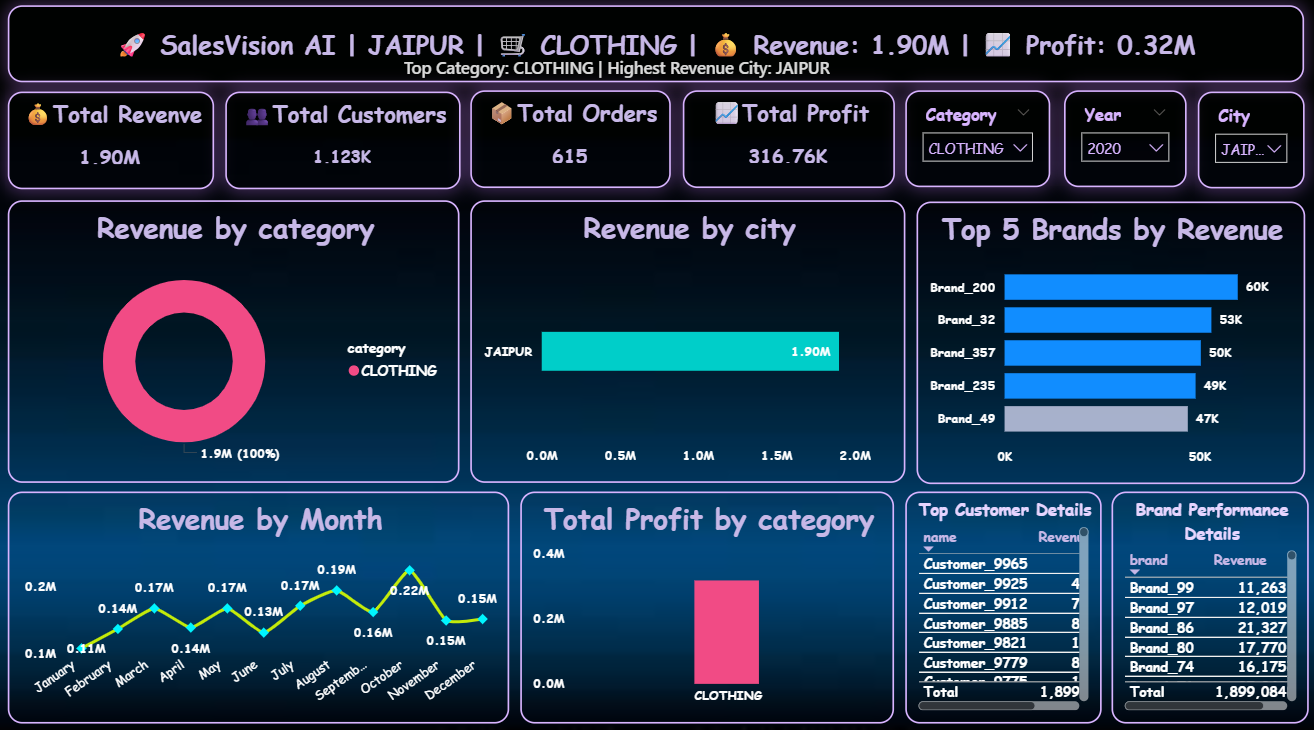

What the dashboard file says about the page in this screenshot:
{"tool":"powerbi","page":{"name":"Dashboard","canvas":[1280,720],"ordinal":0},"visuals":[{"type":"cardVisual","title":"💰Total Revenve","fields":{"Data":["orders_clean_final.Revenue"]},"box":[13.7,94.7,199,94.7],"z":0},{"type":"cardVisual","title":"📈Total Profit","fields":{"Data":["orders_clean_final.Total_Profit"]},"box":[664.2,93.3,204.5,94.7],"z":1000},{"type":"cardVisual","title":"📦Total Orders","fields":{"Data":["CountNonNull(orders_clean_final.order_id)"]},"box":[459.7,93.3,193.5,94.7],"z":2000},{"type":"cardVisual","title":"👥Total Customers","fields":{"Data":["CountNonNull(customers_clean.customer_id)"]},"box":[223.2,94.1,226.8,94.1],"z":3000},{"type":"donutChart","title":"Revenue by category ","fields":{"Category":["products_clean_final.category"],"Y":["orders_clean_final.Revenue"]},"box":[13.7,199,436.4,273.1],"z":4000},{"type":"clusteredBarChart","fields":{"Category":["customers_clean.city"],"Y":["orders_clean_final.Revenue"]},"box":[459.7,199,419.9,273.1],"z":5000},{"type":"lineChart","fields":{"Category":["orders_clean_final.order_date.Variation.Date Hierarchy.Month"],"Y":["orders_clean_final.Revenue"]},"box":[13.7,480.3,484.4,223.7],"z":6000},{"type":"tableEx","title":"Top Customer Details","fields":{"Values":["customers_clean.name","orders_clean_final.Revenue"]},"box":[879.6,480.3,189.4,223.7],"z":7000},{"type":"tableEx","title":"Brand Performance Details","fields":{"Values":["products_clean_final.brand","orders_clean_final.Revenue"]},"box":[1078.6,480.3,190.7,223.7],"z":8000},{"type":"slicer","fields":{"Values":["customers_clean.city"]},"box":[1162.3,94.7,102.9,93.3],"z":9000},{"type":"slicer","fields":{"Values":["orders_clean_final.year"]},"box":[1033.3,93.3,118,93.3],"z":10000},{"type":"slicer","fields":{"Values":["products_clean_final.category"]},"box":[879.6,93.3,140,93.3],"z":11000},{"type":"columnChart","title":"Total Profit by category","fields":{"Category":["products_clean_final.category"],"Y":["orders_clean_final.Total_Profit"]},"box":[507.7,480.3,360.9,223.7],"z":12000},{"type":"cardVisual","fields":{"Data":["orders_clean_final.Dynamic_Title"]},"box":[13.7,11,1251.5,74.1],"z":13000},{"type":"clusteredBarChart","title":"Top 5 Brands by Revenue","fields":{"Category":["products_clean_final.brand"],"Y":["orders_clean_final.Revenue"]},"box":[890.4,200.3,375.2,272.7],"z":14000},{"type":"cardVisual","fields":{"Data":["orders_clean_final.Dynamic_Insight"]},"box":[366.4,31.6,808.2,76.8],"z":15000}]}

Visuals, with their boxes in screenshot pixels (x1, y1, x2, y2), scaled from the page's 1280x720 canvas onto the 1314x730 screenshot:
"💰Total Revenve" cardVisual: 14,96,218,192
"📈Total Profit" cardVisual: 682,95,892,191
"📦Total Orders" cardVisual: 472,95,671,191
"👥Total Customers" cardVisual: 229,95,462,191
"Revenue by category " donutChart: 14,202,462,479
clusteredBarChart - customers_clean.city x orders_clean_final.Revenue: 472,202,903,479
lineChart - orders_clean_final.order_date.Variation.Date Hierarchy.Month x orders_clean_final.Revenue: 14,487,511,714
"Top Customer Details" tableEx: 903,487,1097,714
"Brand Performance Details" tableEx: 1107,487,1303,714
slicer - customers_clean.city: 1193,96,1299,191
slicer - orders_clean_final.year: 1061,95,1182,189
slicer - products_clean_final.category: 903,95,1047,189
"Total Profit by category" columnChart: 521,487,892,714
cardVisual - orders_clean_final.Dynamic_Title: 14,11,1299,86
"Top 5 Brands by Revenue" clusteredBarChart: 914,203,1299,480
cardVisual - orders_clean_final.Dynamic_Insight: 376,32,1206,110
